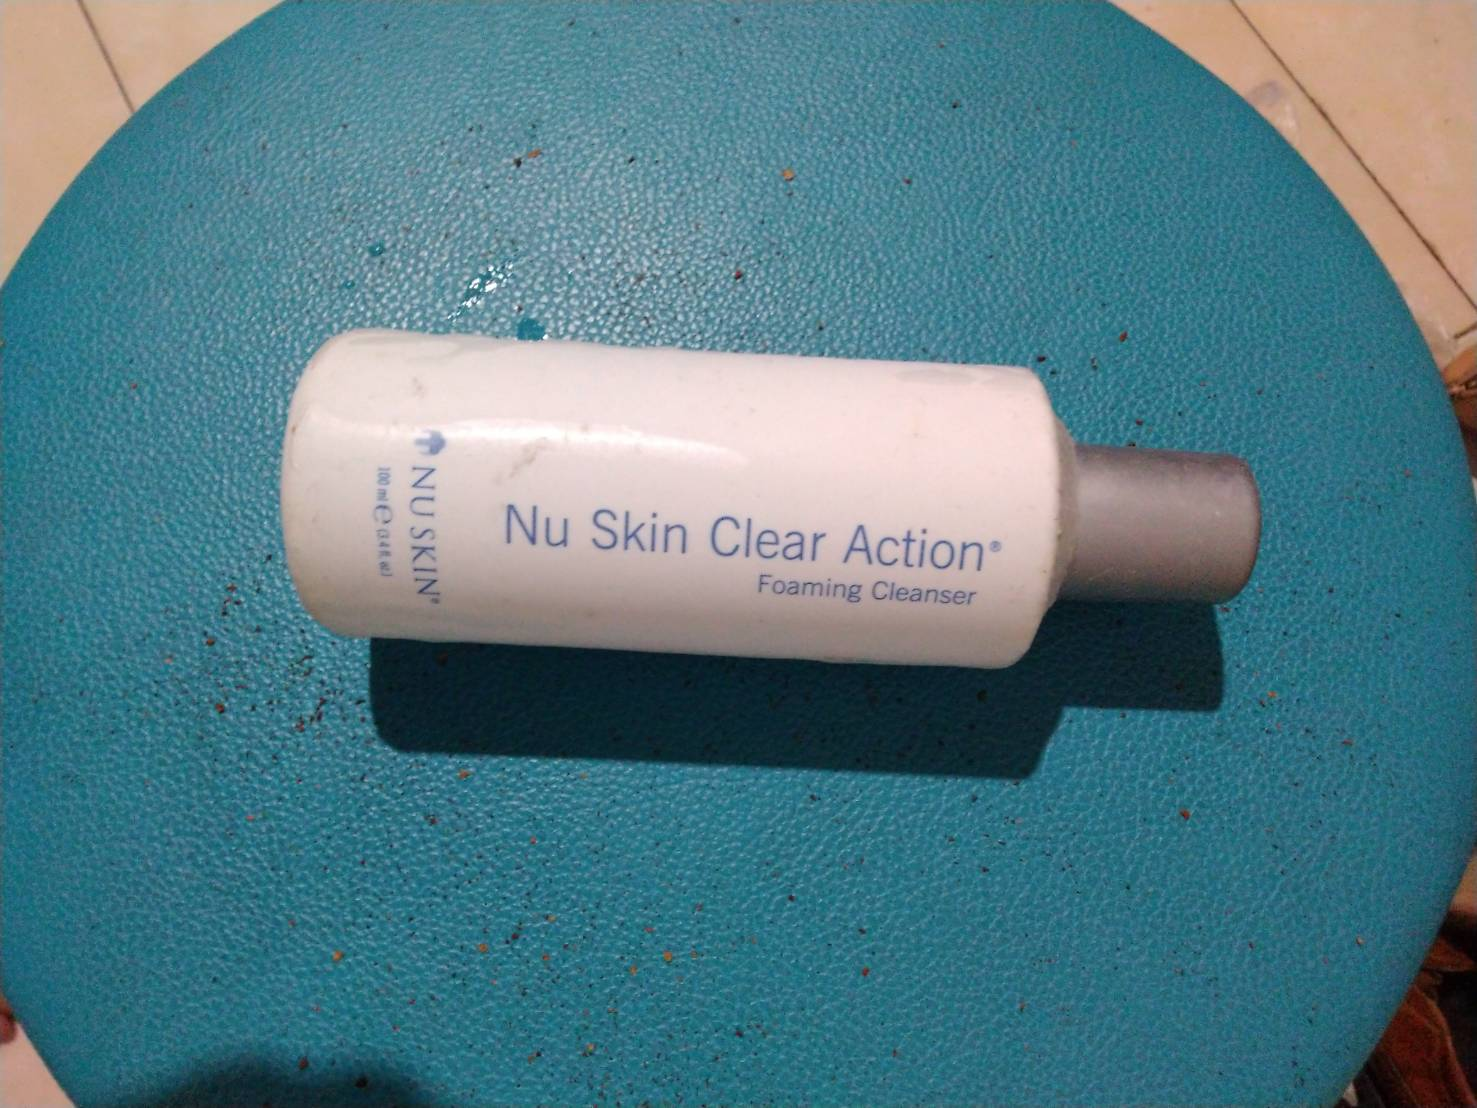HDPE: (281, 328, 1267, 669)
